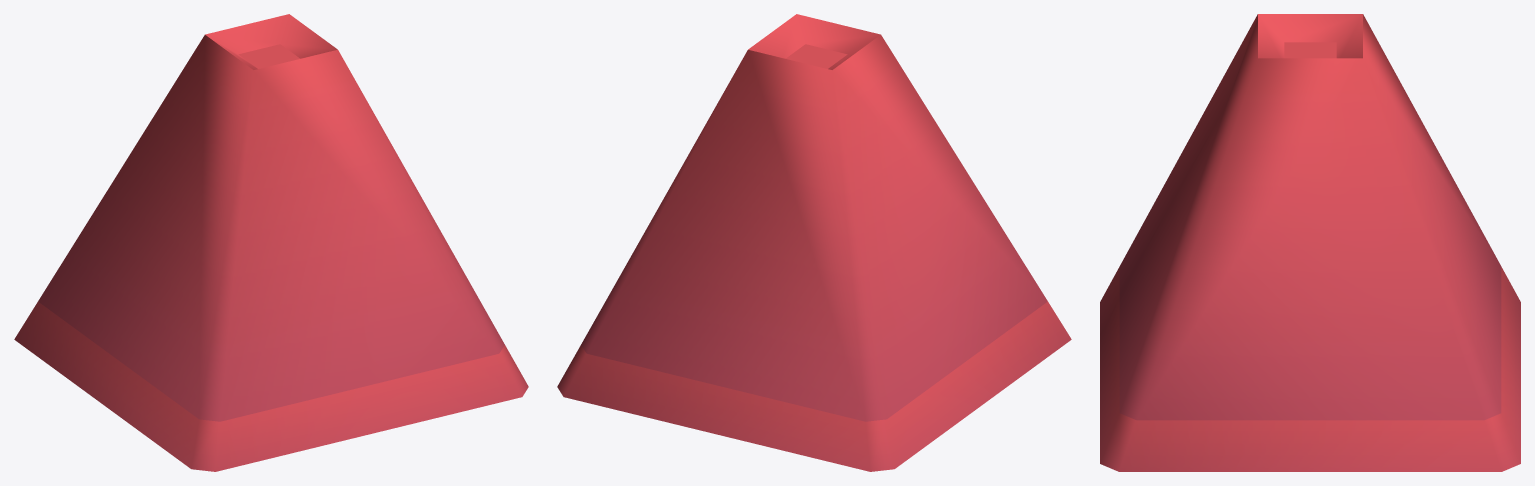
File: roof-kn-roof-high-point.glb
The picture shows the model from 3 angles, left to right: view 1: azimuth 30°, elevation 25°; view 2: azimuth 150°, elevation 25°; view 3: azimuth 270°, elevation 25°; orthographic projection. The views are drawn at different scales.
Visible parts, largest first — view 1: roof-high-point; view 2: roof-high-point; view 3: roof-high-point.
Part boxes in pixels (box(x1,y1,x2,y2)): roof-high-point: box(14, 14, 528, 471); roof-high-point: box(557, 14, 1071, 471); roof-high-point: box(1100, 14, 1520, 471).
Bounding box in the file's own units: 3.3 × 3 × 3.3.
1 material, 1 textured.
